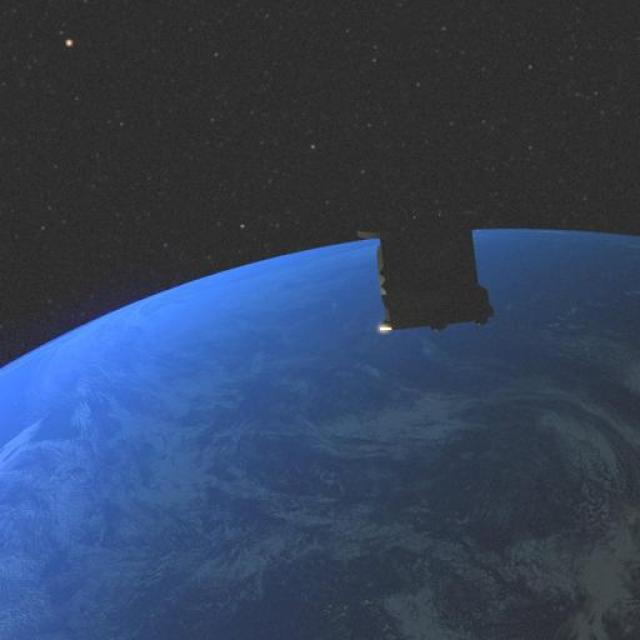proba_3_ocs: (357, 192, 524, 349)
